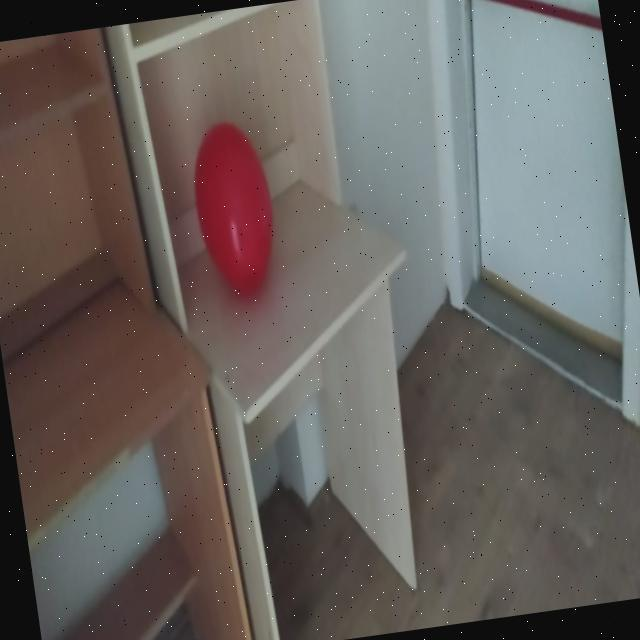balloon: (184, 104, 287, 312)
